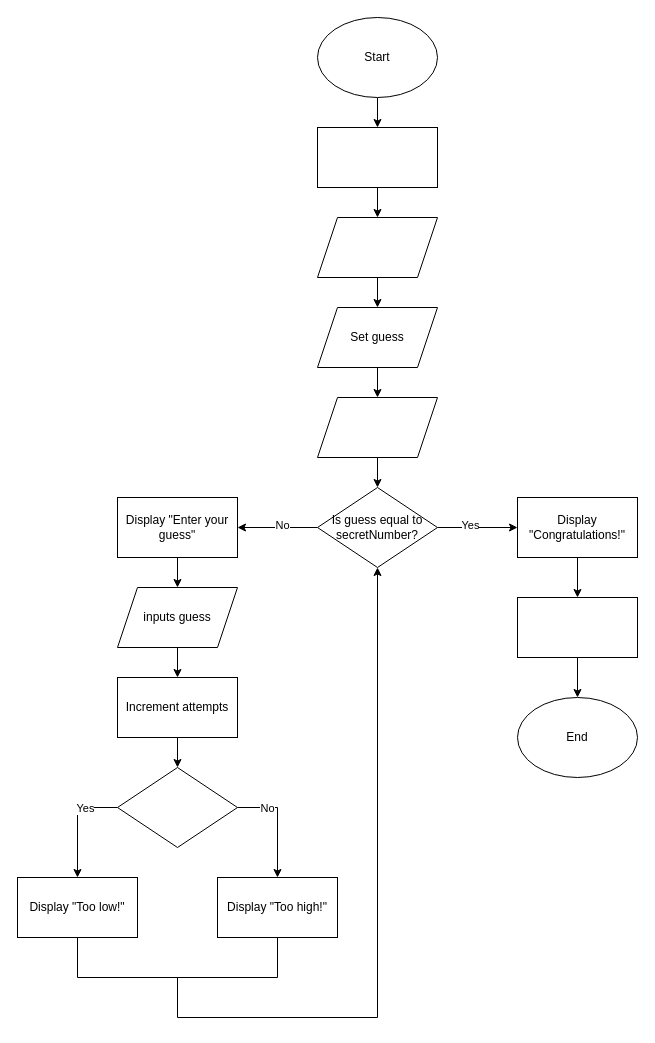
Some shapes in this 655 by 1043 pixel diagram are drawn without their labels. The shapes that lost their labels are listed below. From the top down, each one's centre as x and y in pixels, then its label:
the point at 377,157: Display "Welcome to the Guessing Game"
the point at 377,247: Set secretNumber
the point at 377,427: Set attempts
the point at 577,627: Display attempts
the point at 177,807: Is guess < secretNumber ?
